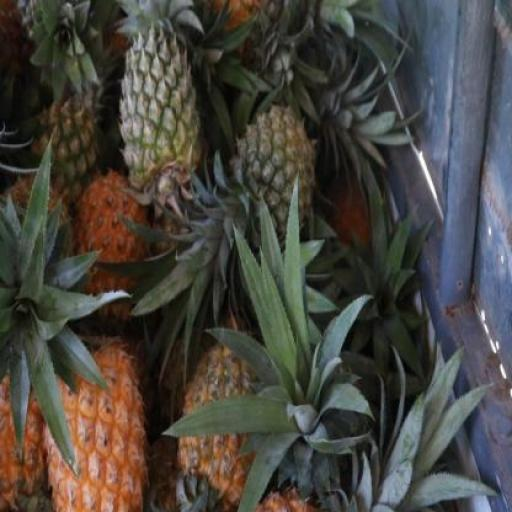Pineapple - v8 v1: (42, 334, 144, 510)
